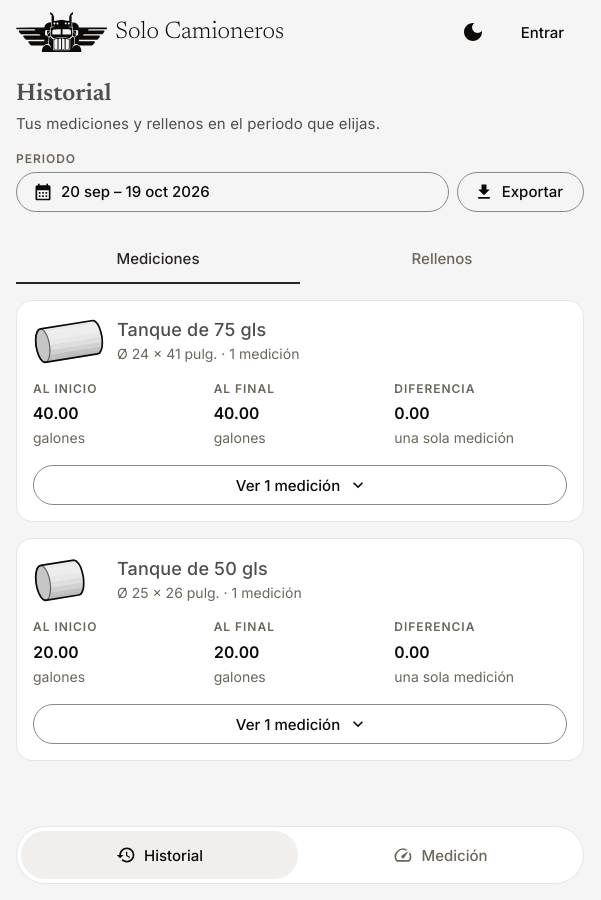
Test: each tank history is a disclosure button
What coordinates should you click on to do the following:
click the button "Ver 1 medición" below "Ø 24 × 41 pulg."
I would click on:
 (300, 485)
Its box is [33,465,567,505].
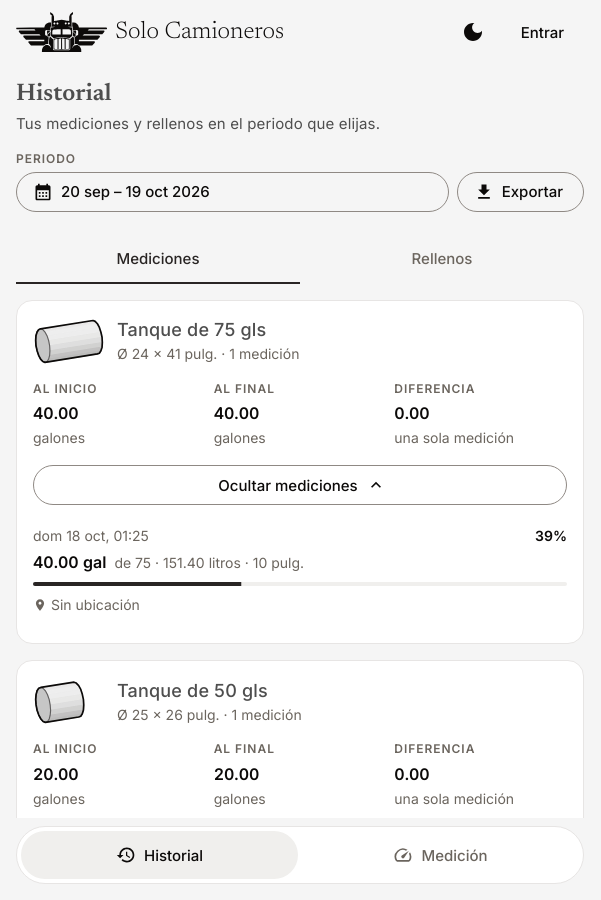
Result: the button named "Ver 1 medición" is expanded at [33,465,567,505]
